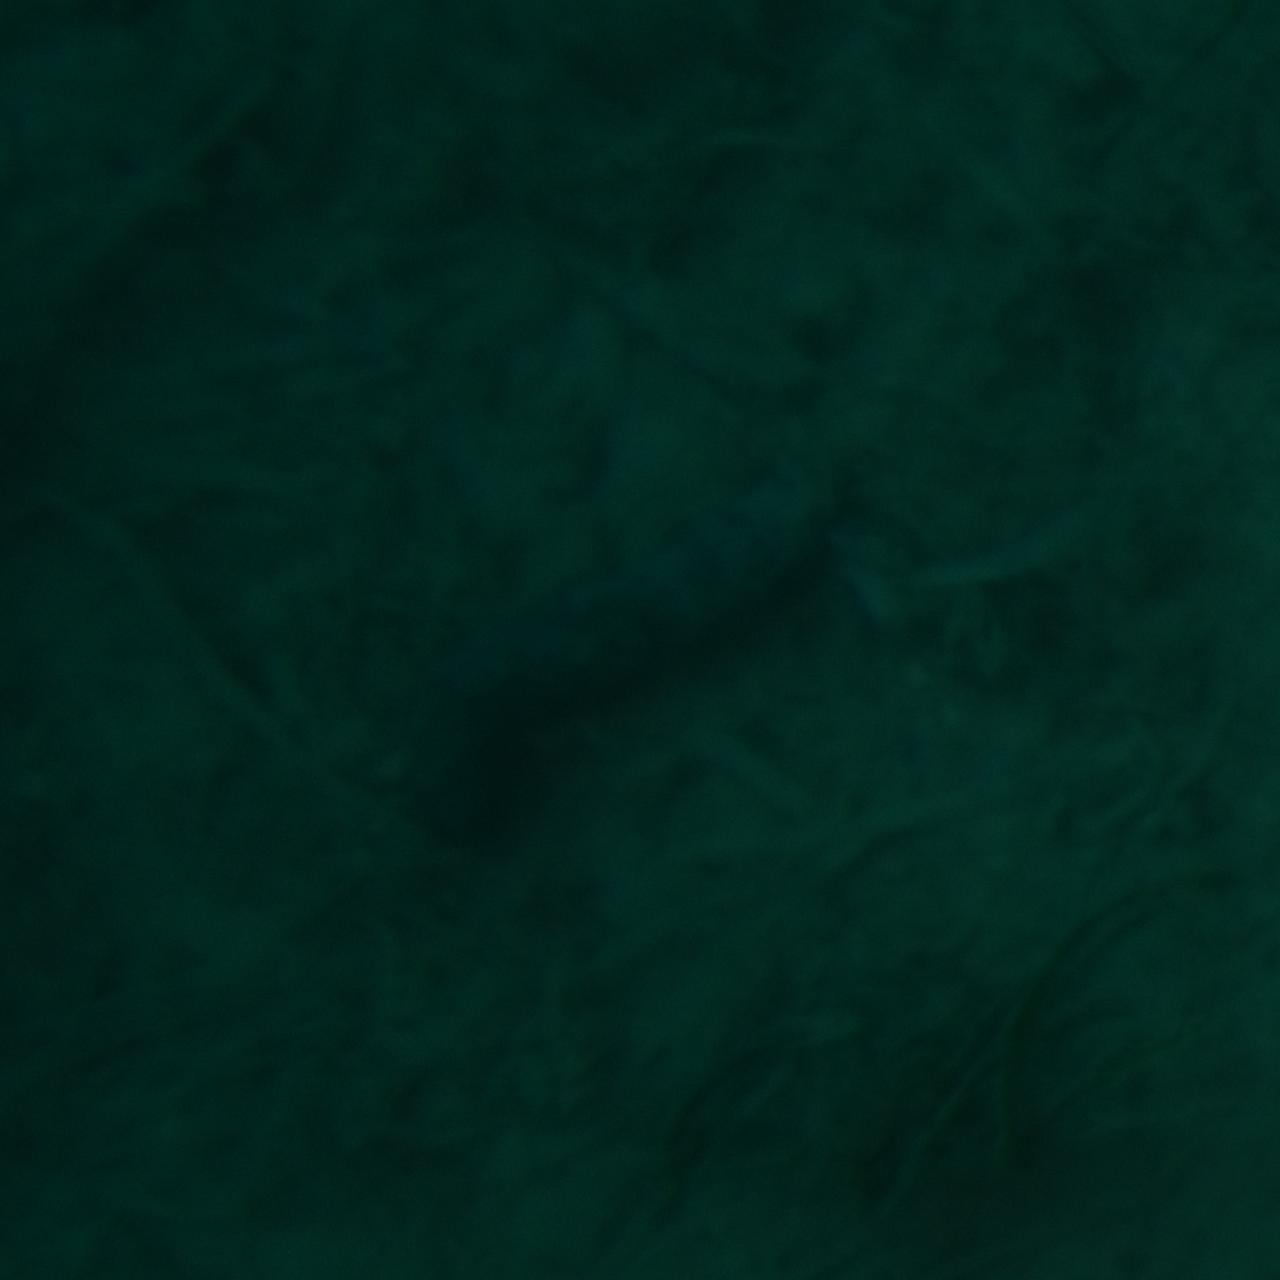Holothuria tubulosa: (390, 424, 890, 856)
